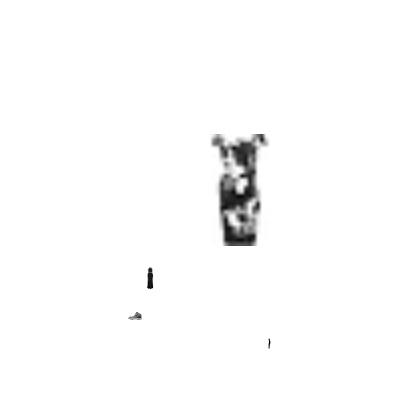1: (262, 336, 276, 350)
Dress: (184, 134, 296, 246), (139, 267, 161, 289)
Sneaker: (128, 309, 142, 323)
